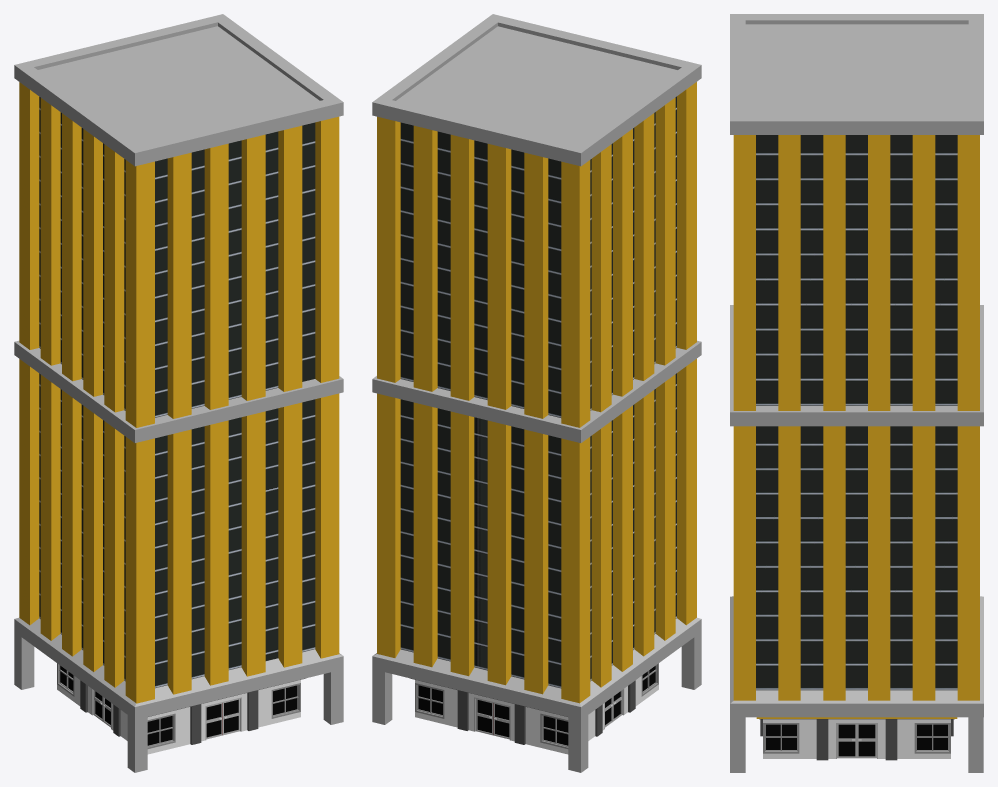
The picture shows the model from 3 angles, left to right: view 1: azimuth 30°, elevation 25°; view 2: azimuth 150°, elevation 25°; view 3: azimuth 270°, elevation 25°; orthographic projection. The views are drawn at different scales.
Parts seen in each view (by area): view 1: BC-01; view 2: BC-01; view 3: BC-01.
Part boxes in pixels (x1,y1,x2,y2): BC-01: (14,14,343,772); BC-01: (372,14,701,772); BC-01: (730,14,983,772).
Size of what is drawn, in the model's own units: 16.58 by 46.99 by 16.58.
